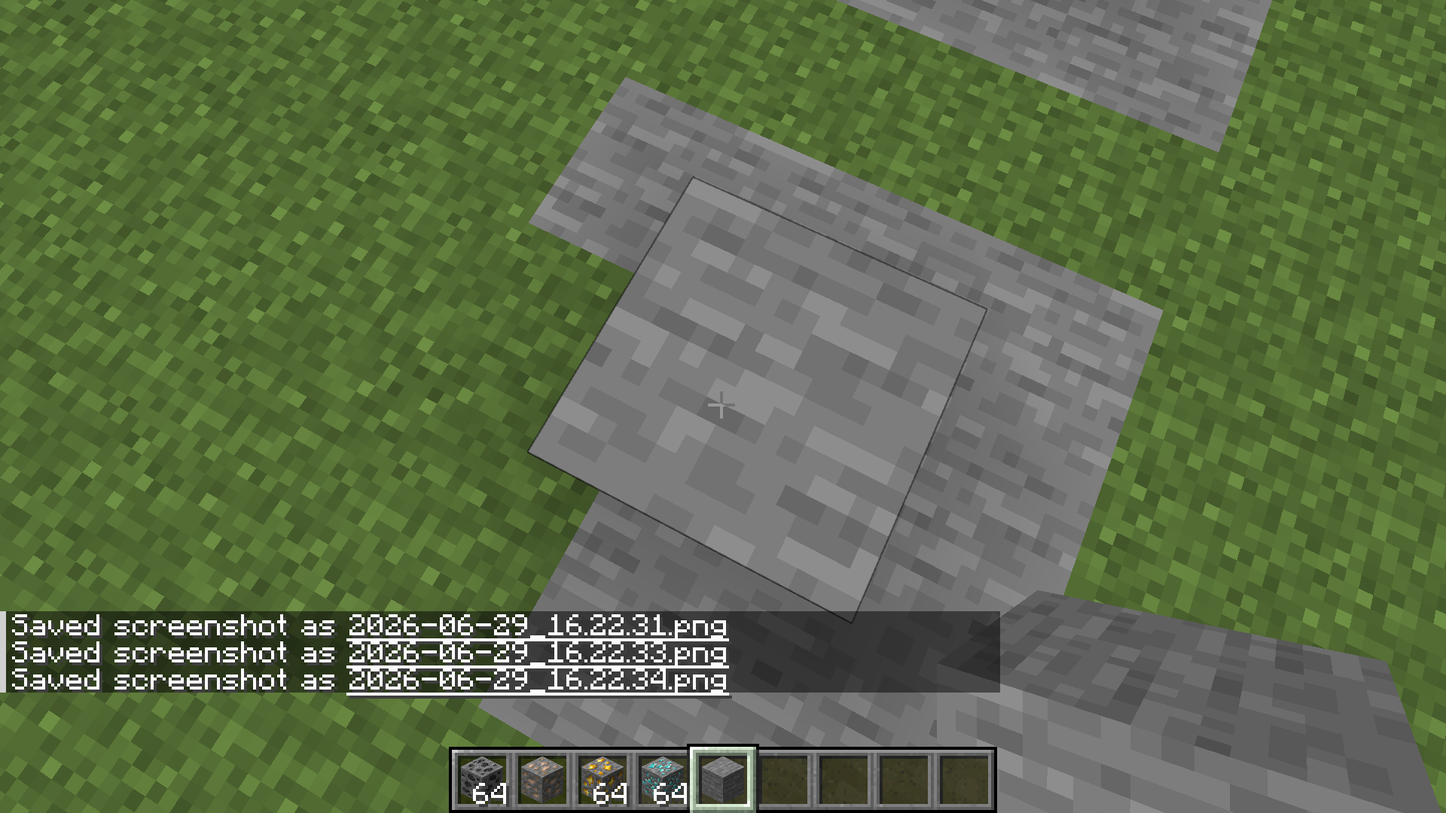stone: (531, 177, 987, 618)
